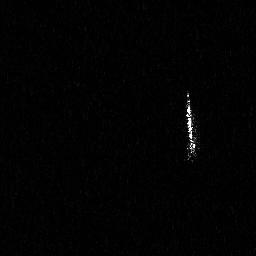ship: (183, 91, 201, 166)
